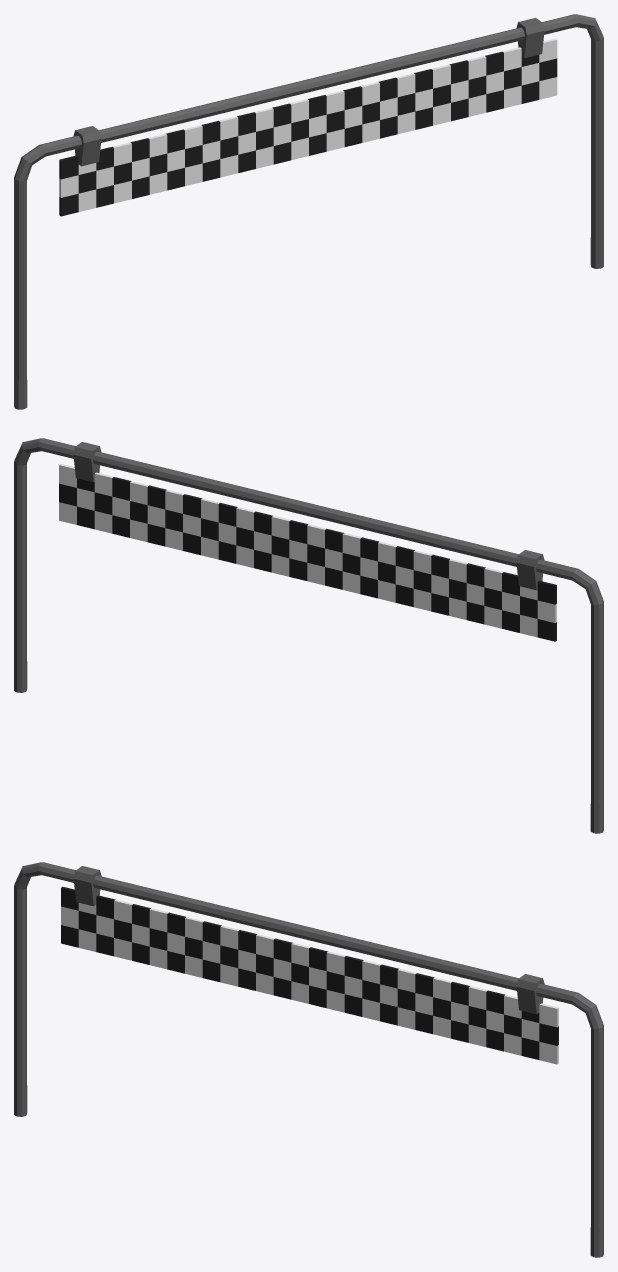
The model's file is PostFinish.fbx.
3 renders of one model, top to bottom at view 1: azimuth 30°, elevation 25°; view 2: azimuth 150°, elevation 25°; view 3: azimuth 330°, elevation 25°, orthographic.
Visible parts, largest first — view 1: finish.002; view 2: finish.002; view 3: finish.002.
Boxes of the visible parts, x1,y1,x2,y2 form: finish.002: [14, 14, 603, 409]; finish.002: [14, 438, 603, 833]; finish.002: [14, 862, 603, 1257].
Size of the model in its own units: 997 by 421 by 30.
1 material, 1 textured.
